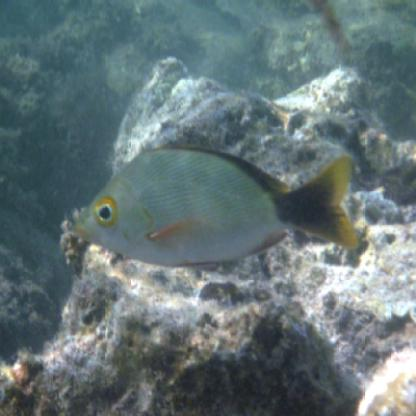Lutjanidae -Snappers-: (67, 140, 368, 274)
